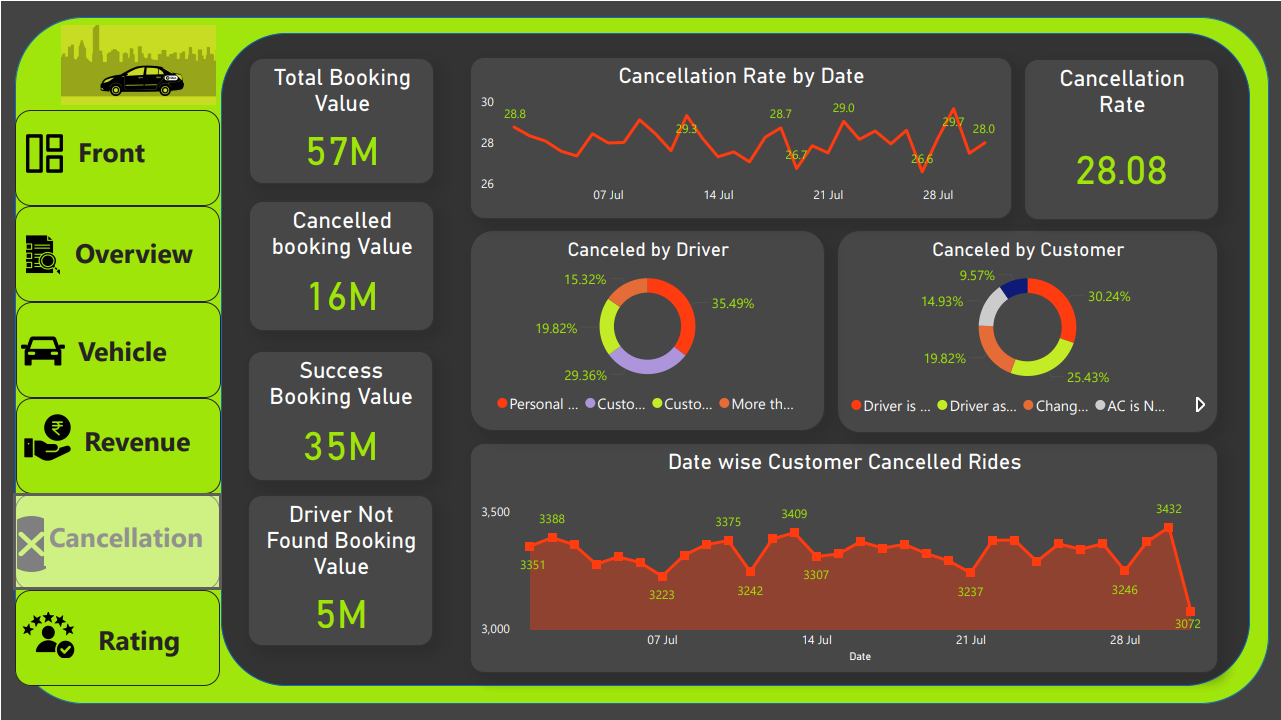

What the dashboard file says about the page in this screenshot:
{"tool":"powerbi","page":{"name":"Cancellations","canvas":[1280,720],"ordinal":4},"visuals":[{"type":"shape","box":[12.3,8.6,1254,701.8],"z":0},{"type":"shape","box":[258,37.6,203.6,115.7],"z":0,"group":"g3"},{"type":"group","id":"g1","title":"Group 1","box":[707,37.6,203.7,115.7],"z":0,"group":"g5"},{"type":"shape","box":[707,37.6,202.2,115.7],"z":0,"group":"g1"},{"type":"shape","box":[934.2,37.6,203.6,115.7],"z":0,"group":"g2"},{"type":"shape","box":[481.2,40.5,202.2,113.3],"z":0,"group":"g4"},{"type":"shape","box":[231.9,18.4,1025.8,682.2],"z":1000},{"type":"group","id":"g2","title":"Group 2","box":[934,37.6,203.8,115.7],"z":1000,"group":"g5"},{"type":"card","title":"Total Booking Value","fields":{"Values":["Sum(Booking.Booking_Value)"]},"box":[258.1,40.5,203.6,107.4],"z":1000,"group":"g3"},{"type":"card","title":"Cancelled Booking Value","fields":{"Values":["Sum(Booking.Booking_Value)"]},"box":[708.5,49.2,202.2,99],"z":1000,"group":"g1"},{"type":"card","title":"Cancellation Rate","fields":{"Values":["Booking.Cancellation Rate"]},"box":[934,50.6,203.6,97.6],"z":1000,"group":"g2"},{"type":"card","title":"Success Booking Value","fields":{"Values":["Sum(Booking.Booking_Value)"]},"box":[482.4,51.9,203.6,93.4],"z":1000,"group":"g4"},{"type":"group","id":"g3","title":"Group 3","box":[258,37.6,203.6,115.7],"z":2000,"group":"g5"},{"type":"clusteredBarChart","title":"Driver Cancellation Reason by Vehicle Type","fields":{"Category":["Booking.Cancelled_Ride_by_Driver"],"Y":["CountNonNull(Booking.Vehicle_Type)"],"Series":["Booking.Vehicle_Type"]},"box":[605.2,396.5,635.8,275.5],"z":2000},{"type":"group","id":"g4","title":"Group 4","box":[481.2,40.5,204.8,113.3],"z":3000,"group":"g5"},{"type":"donutChart","title":"Cancelled by Customer","fields":{"Category":["Booking.Cancelled_Ride_by_Customer"],"Y":["CountNonNull(Booking.Booking_ID)"]},"box":[247.9,427,344.8,245.4],"z":3000},{"type":"lineChart","title":"Cancellation Rate by Date","fields":{"Y":["Booking.Cancellation Rate"],"Category":["Booking.Date.Variation.Date Hierarchy.Year","Booking.Date.Variation.Date Hierarchy.Quarter","Booking.Date.Variation.Date Hierarchy.Month","Booking.Date.Variation.Date Hierarchy.Day"]},"box":[604.9,187.7,635.6,187.7],"z":4000},{"type":"donutChart","title":"Cancelled by Driver","fields":{"Y":["CountNonNull(Booking.Booking_ID)"],"Category":["Booking.Cancelled_Ride_by_Driver"]},"box":[247.9,187.7,344.8,222.1],"z":5000},{"type":"actionButton","box":[1165.7,55.2,74.8,82.2],"z":6000},{"type":"group","id":"g5","title":"Group 7","box":[258,37.6,879.8,116.3],"z":7000},{"type":"shape","box":[12.5,8.4,219.4,702.7],"z":8000},{"type":"shape","box":[12.7,9.7,219.4,103.2],"z":9000},{"type":"image","box":[13.9,11,218.2,103.2],"z":10000},{"type":"image","box":[20.9,371.5,62.6,101.6],"z":11000},{"type":"textbox","box":[73,371.4,147.4,84.6],"z":12000},{"type":"actionButton","box":[17.2,370.6,211,101.8],"z":13000},{"type":"image","box":[20.9,257.4,58.4,103],"z":14000},{"type":"textbox","box":[72.3,285.2,148.9,55.7],"z":15000},{"type":"actionButton","box":[16.7,257.4,210.1,101.6],"z":16000},{"type":"textbox","box":[89.6,490.2,130.8,86.8],"z":17000},{"type":"image","box":[23.5,483,61.9,102.7],"z":18000},{"type":"actionButton","box":[17.2,483.4,211,100.6],"z":19000},{"type":"image","box":[25.3,608.3,57,101.6],"z":20000},{"type":"textbox","box":[57,634.4,171.1,50.1],"z":21000},{"type":"actionButton","box":[16,597.5,212.3,100.6],"z":22000},{"type":"image","box":[19.5,140.5,75.1,100.2],"z":23000},{"type":"textbox","box":[91.8,164.2,112.7,51.5],"z":24000},{"type":"actionButton","box":[16.7,140.5,210.1,101.6],"z":25000}]}

Visuals, with their boxes in screenshot pixels (x1, y1, x2, y2), scaled from the page's 1280x720 canvas onto the 1281x720 screenshot:
shape: (12, 9, 1267, 710)
shape: (258, 38, 462, 153)
"Group 1" group: (708, 38, 911, 153)
shape: (708, 38, 910, 153)
shape: (935, 38, 1139, 153)
shape: (482, 40, 684, 154)
shape: (232, 18, 1259, 701)
"Group 2" group: (935, 38, 1139, 153)
"Total Booking Value" card: (258, 40, 462, 148)
"Cancelled Booking Value" card: (709, 49, 911, 148)
"Cancellation Rate" card: (935, 51, 1138, 148)
"Success Booking Value" card: (483, 52, 687, 145)
"Group 3" group: (258, 38, 462, 153)
"Driver Cancellation Reason by Vehicle Type" clusteredBarChart: (606, 396, 1242, 672)
"Group 4" group: (482, 40, 687, 154)
"Cancelled by Customer" donutChart: (248, 427, 593, 672)
"Cancellation Rate by Date" lineChart: (605, 188, 1241, 375)
"Cancelled by Driver" donutChart: (248, 188, 593, 410)
actionButton: (1167, 55, 1241, 137)
"Group 7" group: (258, 38, 1139, 154)
shape: (13, 8, 232, 711)
shape: (13, 10, 232, 113)
image: (14, 11, 232, 114)
image: (21, 372, 84, 473)
textbox: (73, 371, 221, 456)
actionButton: (17, 371, 228, 472)
image: (21, 257, 79, 360)
textbox: (72, 285, 221, 341)
actionButton: (17, 257, 227, 359)
textbox: (90, 490, 221, 577)
image: (24, 483, 85, 586)
actionButton: (17, 483, 228, 584)
image: (25, 608, 82, 710)
textbox: (57, 634, 228, 684)
actionButton: (16, 598, 228, 698)
image: (20, 140, 95, 241)
textbox: (92, 164, 205, 216)
actionButton: (17, 140, 227, 242)
